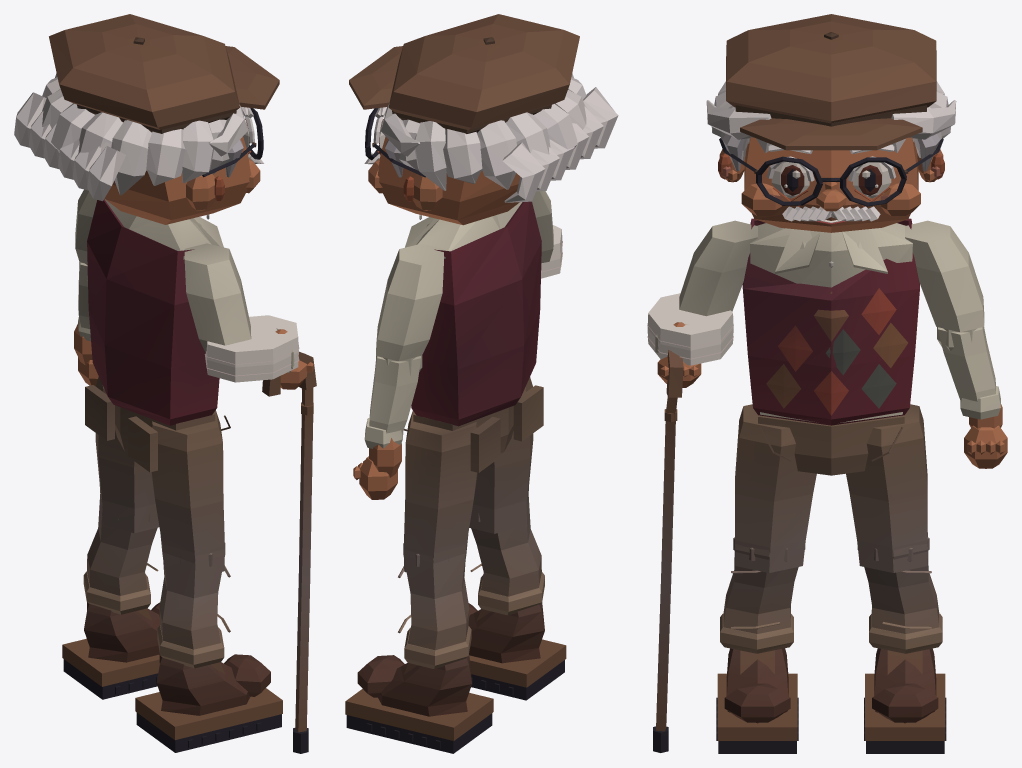
3 views of the same model, side by side, from view 1: azimuth 30°, elevation 25°; view 2: azimuth 150°, elevation 25°; view 3: azimuth 270°, elevation 25° (orthographic).
Visible parts, largest first — view 1: head_pal_picketWhite, torso_pal_picketWhite, footR_pal_picketWhite, legR_pal_picketWhite, footL_pal_picketWhite, shinR_pal_picketWhite, head_pal_skinWarm, armR_pal_picketWhite, shinL_pal_picketWhite, handR_pal_picketWhite, foreArmR_pal_picketWhite, legL_pal_picketWhite (+5 smaller); view 2: head_pal_picketWhite, torso_pal_picketWhite, footL_pal_picketWhite, legL_pal_picketWhite, footR_pal_picketWhite, shinL_pal_picketWhite, armL_pal_picketWhite, head_pal_skinWarm, shinR_pal_picketWhite, legR_pal_picketWhite, hip_pal_picketWhite, foreArmL_pal_picketWhite (+3 smaller); view 3: head_pal_picketWhite, torso_pal_picketWhite, legR_pal_picketWhite, legL_pal_picketWhite, head_pal_skinWarm, footL_pal_picketWhite, footR_pal_picketWhite, shinL_pal_picketWhite, shinR_pal_picketWhite, armL_pal_picketWhite, armR_pal_picketWhite, handR_pal_picketWhite (+6 smaller).
Part boxes in pixels (box(x1,y1,x2,y2)): head_pal_picketWhite: box(14, 14, 279, 201); torso_pal_picketWhite: box(87, 198, 223, 425); footR_pal_picketWhite: box(135, 654, 282, 752); legR_pal_picketWhite: box(150, 410, 224, 571); footL_pal_picketWhite: box(62, 602, 160, 699); shinR_pal_picketWhite: box(157, 542, 230, 668); head_pal_skinWarm: box(104, 136, 260, 224); armR_pal_picketWhite: box(184, 243, 251, 352); shinL_pal_picketWhite: box(83, 494, 158, 614); handR_pal_picketWhite: box(262, 351, 316, 753); foreArmR_pal_picketWhite: box(204, 315, 299, 382); legL_pal_picketWhite: box(95, 376, 159, 533); head_pal_picketWhite: box(349, 14, 618, 202); torso_pal_picketWhite: box(405, 201, 541, 426); footL_pal_picketWhite: box(345, 654, 493, 753); legL_pal_picketWhite: box(403, 411, 478, 572); footR_pal_picketWhite: box(468, 602, 566, 700); shinL_pal_picketWhite: box(398, 543, 471, 668); armL_pal_picketWhite: box(376, 243, 443, 361); head_pal_skinWarm: box(368, 136, 520, 225); shinR_pal_picketWhite: box(470, 496, 544, 615); legR_pal_picketWhite: box(469, 377, 533, 533); hip_pal_picketWhite: box(404, 385, 543, 472); foreArmL_pal_picketWhite: box(364, 355, 422, 448); head_pal_picketWhite: box(706, 14, 956, 224); torso_pal_picketWhite: box(742, 218, 919, 425); legR_pal_picketWhite: box(735, 404, 816, 572); legL_pal_picketWhite: box(846, 404, 927, 572); head_pal_skinWarm: box(718, 137, 944, 232); footL_pal_picketWhite: box(864, 648, 946, 753); footR_pal_picketWhite: box(716, 648, 798, 753); shinL_pal_picketWhite: box(857, 532, 942, 653); shinR_pal_picketWhite: box(720, 537, 805, 653); armL_pal_picketWhite: box(905, 220, 984, 332); armR_pal_picketWhite: box(679, 220, 757, 316); handR_pal_picketWhite: box(653, 350, 683, 752).
Size of the model in its own units: 0.4421 by 1.4 by 0.6745.
